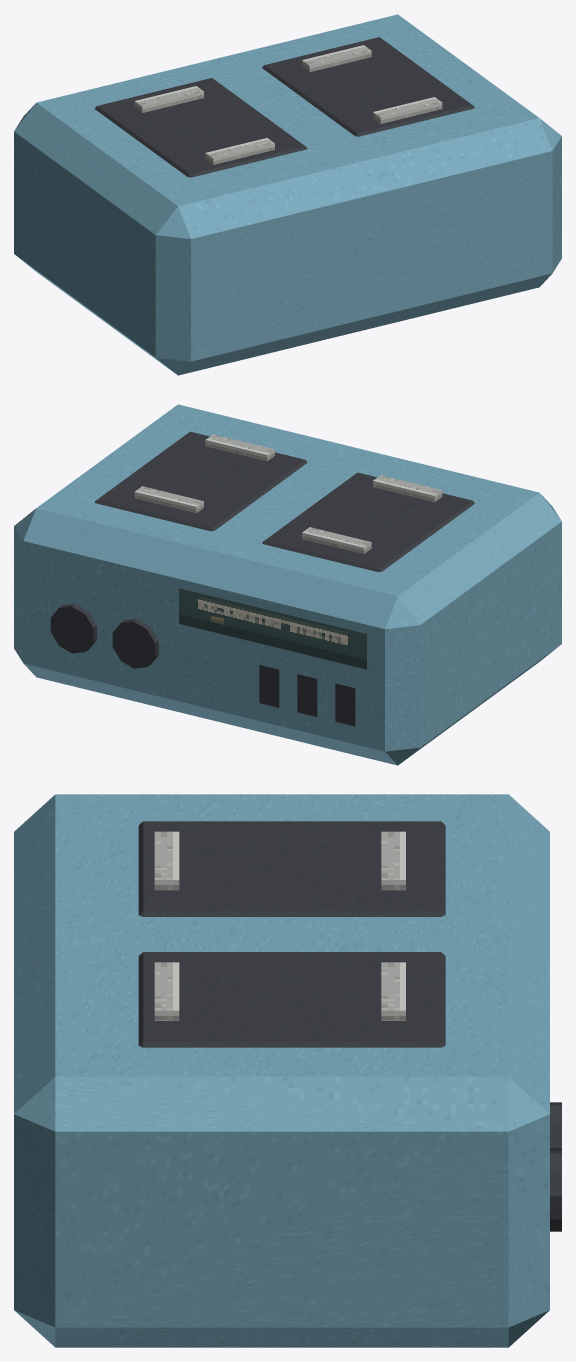
Rendered from recharge_station.glb.
3 views of the same model, one above another, from view 1: azimuth 30°, elevation 25°; view 2: azimuth 150°, elevation 25°; view 3: azimuth 270°, elevation 25° (orthographic). The views are drawn at different scales.
Parts seen in each view (by area): view 1: block_enclosure, block_battery docking pads (×2), block_charging contact (×4); view 2: block_enclosure, block_battery docking pads (×2), block_voltage and status, block_charging contact (×4), block_socket recess (×2), block_air vent (×3); view 3: block_enclosure, block_battery docking pads (×2), block_charging contact (×4), block_socket recess.
Part boxes in pixels (bbox=[...]): block_enclosure: bbox=[14, 14, 561, 375]; block_battery docking pads (×2): bbox=[95, 37, 474, 177]; block_charging contact (×4): bbox=[134, 45, 442, 164]; block_enclosure: bbox=[14, 404, 561, 765]; block_battery docking pads (×2): bbox=[95, 431, 474, 572]; block_voltage and status: bbox=[179, 588, 366, 669]; block_charging contact (×4): bbox=[134, 434, 442, 553]; block_socket recess (×2): bbox=[50, 604, 158, 668]; block_air vent (×3): bbox=[259, 665, 355, 726]; block_enclosure: bbox=[14, 794, 549, 1347]; block_battery docking pads (×2): bbox=[138, 821, 445, 1047]; block_charging contact (×4): bbox=[154, 831, 405, 1020]; block_socket recess: bbox=[550, 1150, 561, 1231].
Size of the model in its own units: 0.3215 by 0.1348 by 0.2347.
1 material, 1 textured.
